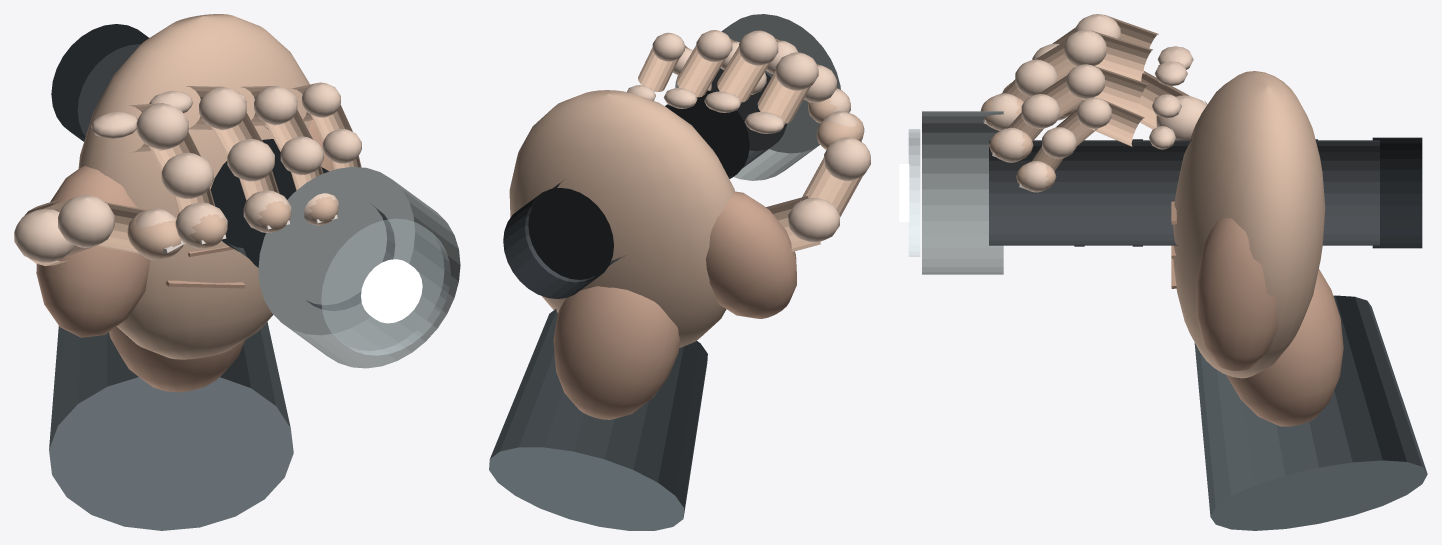
File: player_first_person_hand_flashlight.glb
3 views of the same model, side by side, from view 1: azimuth 30°, elevation 25°; view 2: azimuth 150°, elevation 25°; view 3: azimuth 270°, elevation 25° (orthographic). The views are drawn at different scales.
Parts seen in each view (by area): view 1: sleeve_cuff, palm_main_soft_volume, flashlight_head_wide_bezel, flashlight_front_lens, thenar_thumb_pad, flashlight_rubber_tailcap, wrist_tapered_skin, flashlight_warm_bulb, flashlight_grip_cylinder, thumb_joint_1, thumb_joint_0, flashlight_grip_ring_3 (+24 smaller); view 2: palm_main_soft_volume, sleeve_cuff, wrist_tapered_skin, flashlight_rubber_tailcap, thenar_thumb_pad, flashlight_head_wide_bezel, flashlight_grip_ring_4, flashlight_grip_cylinder, thumb_joint_0, thumb_joint_1, middle_phalange_0, thumb_phalange_1 (+15 smaller); view 3: sleeve_cuff, palm_main_soft_volume, flashlight_grip_cylinder, flashlight_head_wide_bezel, outer_palm_pad, wrist_tapered_skin, flashlight_rubber_tailcap, flashlight_front_lens, middle_phalange_0, ring_phalange_0, middle_joint_soft_0, middle_joint_soft_1 (+16 smaller).
Boxes of the visible parts, x1=… form: sleeve_cuff: x1=49, y1=322, x2=293, y2=530; palm_main_soft_volume: x1=78, y1=14, x2=310, y2=359; flashlight_head_wide_bezel: x1=258, y1=166, x2=460, y2=368; flashlight_front_lens: x1=321, y1=218, x2=450, y2=355; thenar_thumb_pad: x1=36, y1=166, x2=150, y2=337; flashlight_rubber_tailcap: x1=51, y1=24, x2=148, y2=141; wrist_tapered_skin: x1=109, y1=326, x2=245, y2=392; flashlight_warm_bulb: x1=361, y1=259, x2=422, y2=323; flashlight_grip_cylinder: x1=77, y1=44, x2=395, y2=310; thumb_joint_1: x1=58, y1=195, x2=114, y2=247; thumb_joint_0: x1=14, y1=209, x2=75, y2=262; flashlight_grip_ring_3: x1=210, y1=139, x2=284, y2=251; palm_main_soft_volume: x1=509, y1=90, x2=735, y2=347; sleeve_cuff: x1=489, y1=309, x2=707, y2=530; wrist_tapered_skin: x1=553, y1=286, x2=680, y2=419; flashlight_rubber_tailcap: x1=503, y1=188, x2=613, y2=298; thenar_thumb_pad: x1=706, y1=191, x2=796, y2=318; flashlight_head_wide_bezel: x1=675, y1=14, x2=840, y2=180; flashlight_grip_ring_4: x1=669, y1=90, x2=749, y2=178; flashlight_grip_cylinder: x1=525, y1=68, x2=786, y2=282; thumb_joint_0: x1=788, y1=197, x2=839, y2=242; thumb_joint_1: x1=824, y1=137, x2=870, y2=180; middle_phalange_0: x1=717, y1=43, x2=770, y2=102; thumb_phalange_1: x1=799, y1=157, x2=862, y2=217; sleeve_cuff: x1=1194, y1=295, x2=1427, y2=530; palm_main_soft_volume: x1=1173, y1=71, x2=1325, y2=378; flashlight_grip_cylinder: x1=989, y1=140, x2=1379, y2=245; flashlight_head_wide_bezel: x1=922, y1=111, x2=1003, y2=274; outer_palm_pad: x1=1196, y1=218, x2=1278, y2=371; wrist_tapered_skin: x1=1226, y1=269, x2=1343, y2=426; flashlight_rubber_tailcap: x1=1372, y1=137, x2=1422, y2=248; flashlight_front_lens: x1=908, y1=129, x2=920, y2=256; middle_phalange_0: x1=1091, y1=30, x2=1152, y2=81; ring_phalange_0: x1=1080, y1=65, x2=1148, y2=113; middle_joint_soft_0: x1=1064, y1=30, x2=1106, y2=66; middle_joint_soft_1: x1=1015, y1=59, x2=1057, y2=96.
Bounding box in the file's own units: 1.26 × 1.72 × 1.81.
